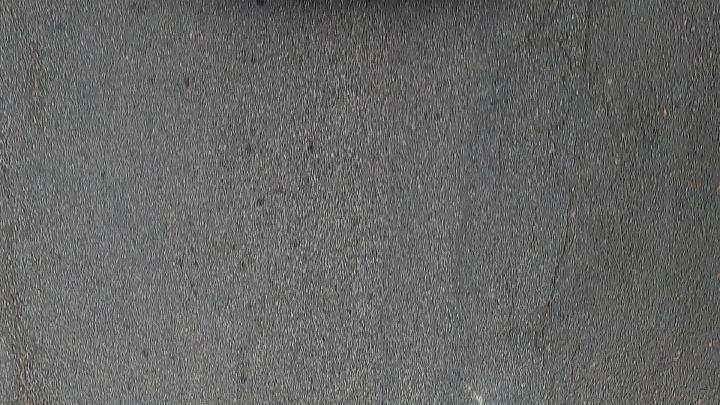Crack: (532, 0, 588, 346), (534, 0, 585, 339)
